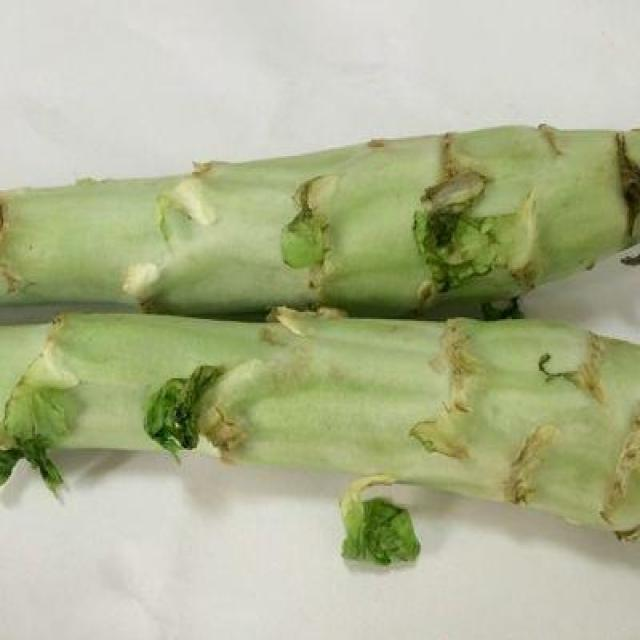organic: (0, 125, 640, 563)
